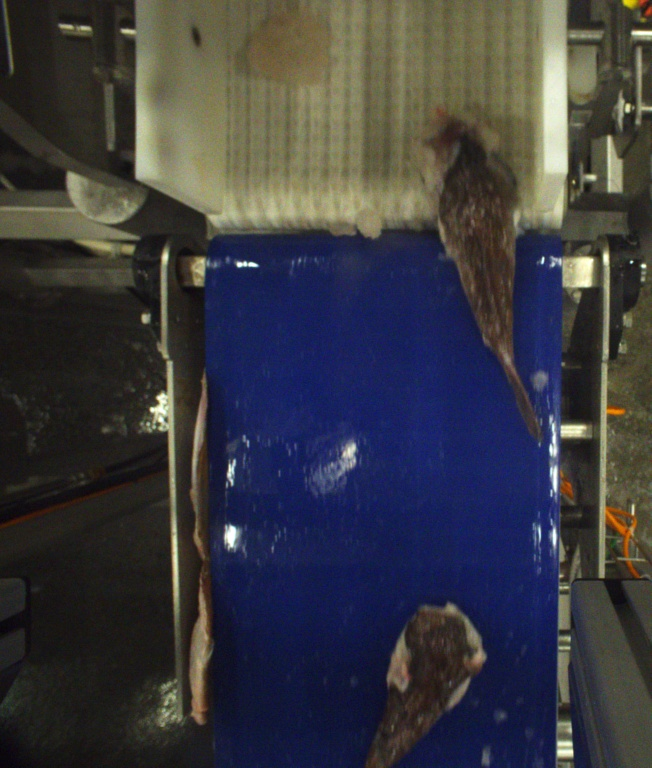ANF: (361, 600, 484, 768)
